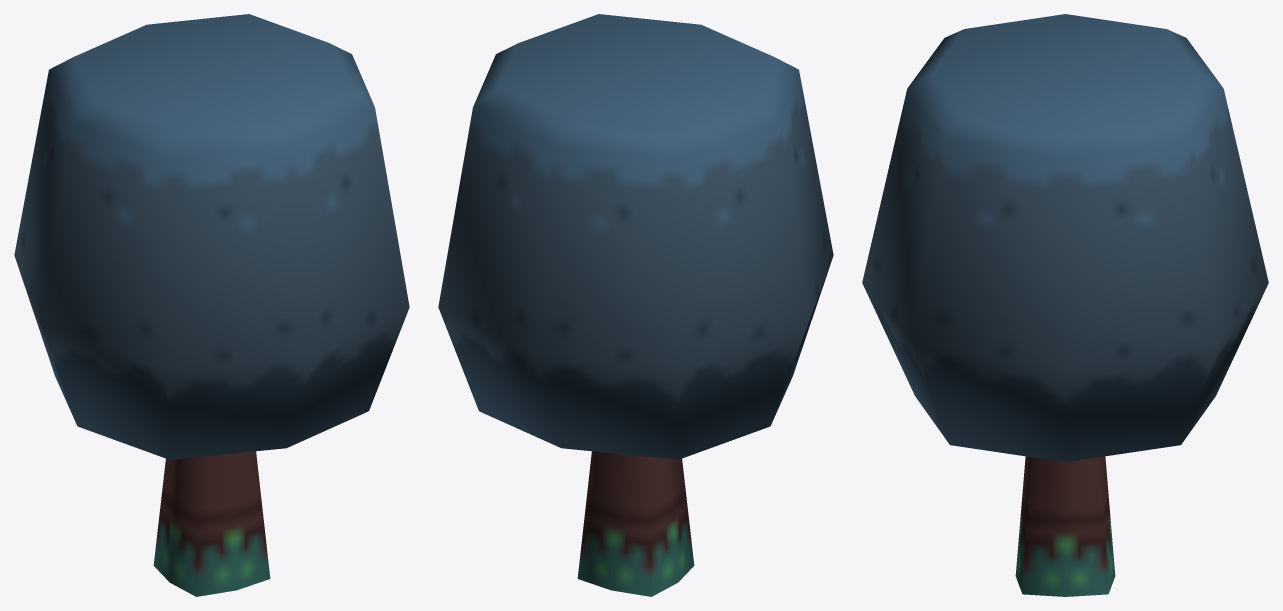
Rendered from tree.fbx.
3 renders of one model, left to right at view 1: azimuth 30°, elevation 25°; view 2: azimuth 150°, elevation 25°; view 3: azimuth 270°, elevation 25°, orthographic.
Visible parts, largest first — view 1: tree; view 2: tree; view 3: tree.
Part boxes in pixels (<box>): tree: <box>14,14,409,596</box>; tree: <box>438,14,833,596</box>; tree: <box>862,14,1268,596</box>.
Size of the model in its own units: 931 by 1292 by 944.
1 material, 1 textured.
